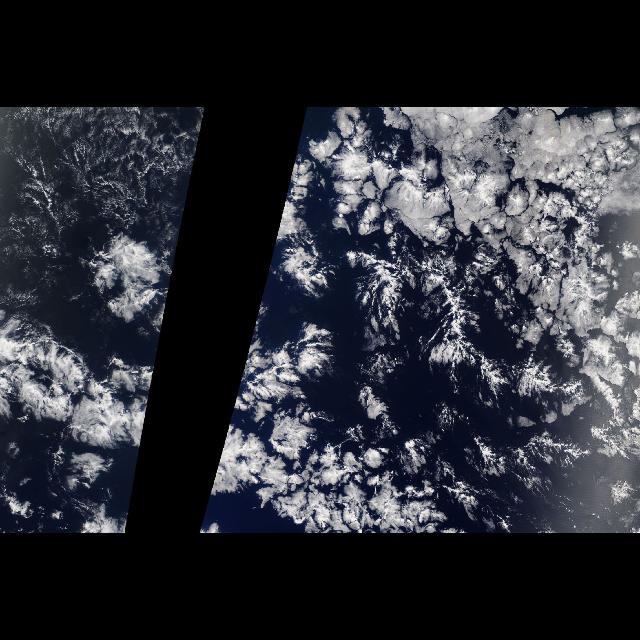Fish: (344, 246, 498, 404)
Flower: (266, 399, 469, 533)
Sugar: (5, 110, 187, 246)
